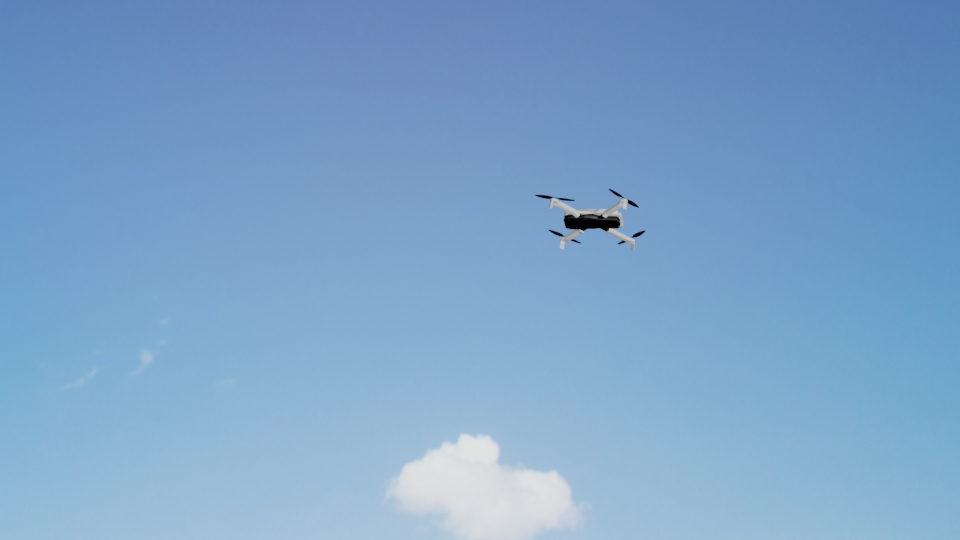drone: (535, 185, 647, 253)
